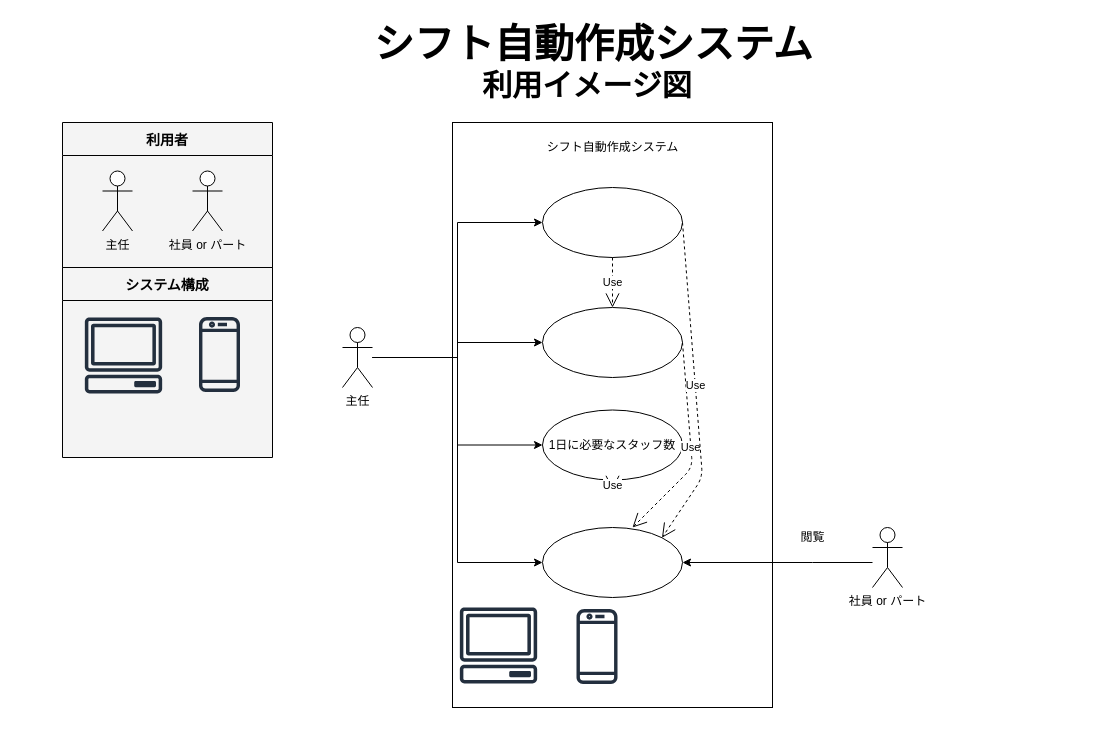
The diagram is 1095 pixels wide and 733 high, and some of its shapes have lost their labels. Here are the shapes that lost their labels. From the top down, the centre of each, then its label:
(x=612, y=222): 勤務者情報登録
(x=123, y=355): PC/スマートフォン
(x=612, y=342): 希望休/休園日 登録
(x=612, y=562): シフト作成
